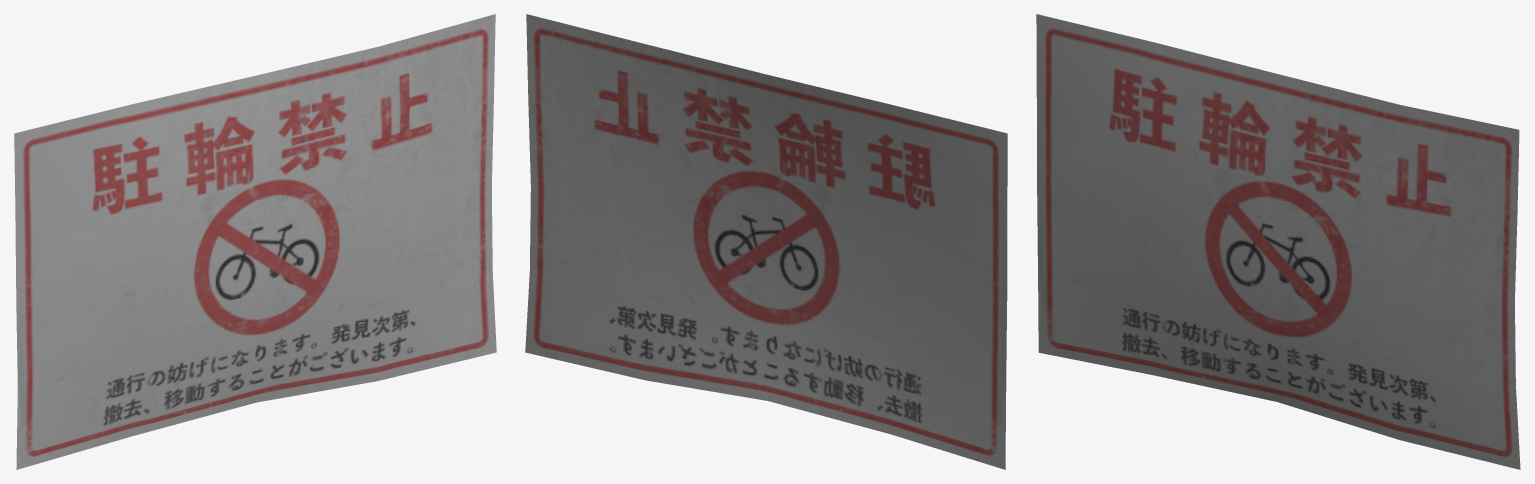
File: posterG.fbx
3 renders of one model, left to right at view 1: azimuth 30°, elevation 25°; view 2: azimuth 150°, elevation 25°; view 3: azimuth 330°, elevation 25°, orthographic.
Visible parts, largest first — view 1: posterG; view 2: posterG; view 3: posterG.
Part boxes in pixels (x1,y1,x2,y2): posterG: (14, 14, 496, 469); posterG: (525, 14, 1007, 469); posterG: (1036, 14, 1520, 469).
Size of the model in its own units: 30.14 by 20.24 by 0.7927.
Materials: 1 (1 with a texture image).
